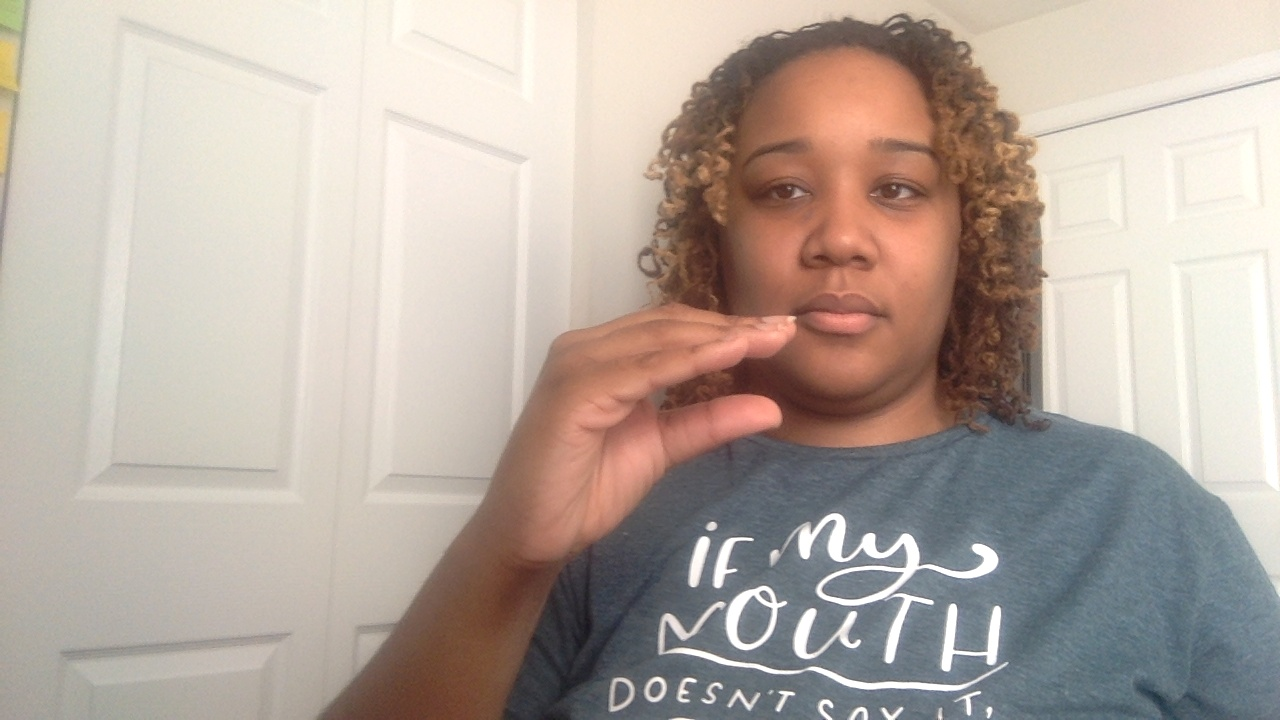no: (486, 301, 806, 604)
